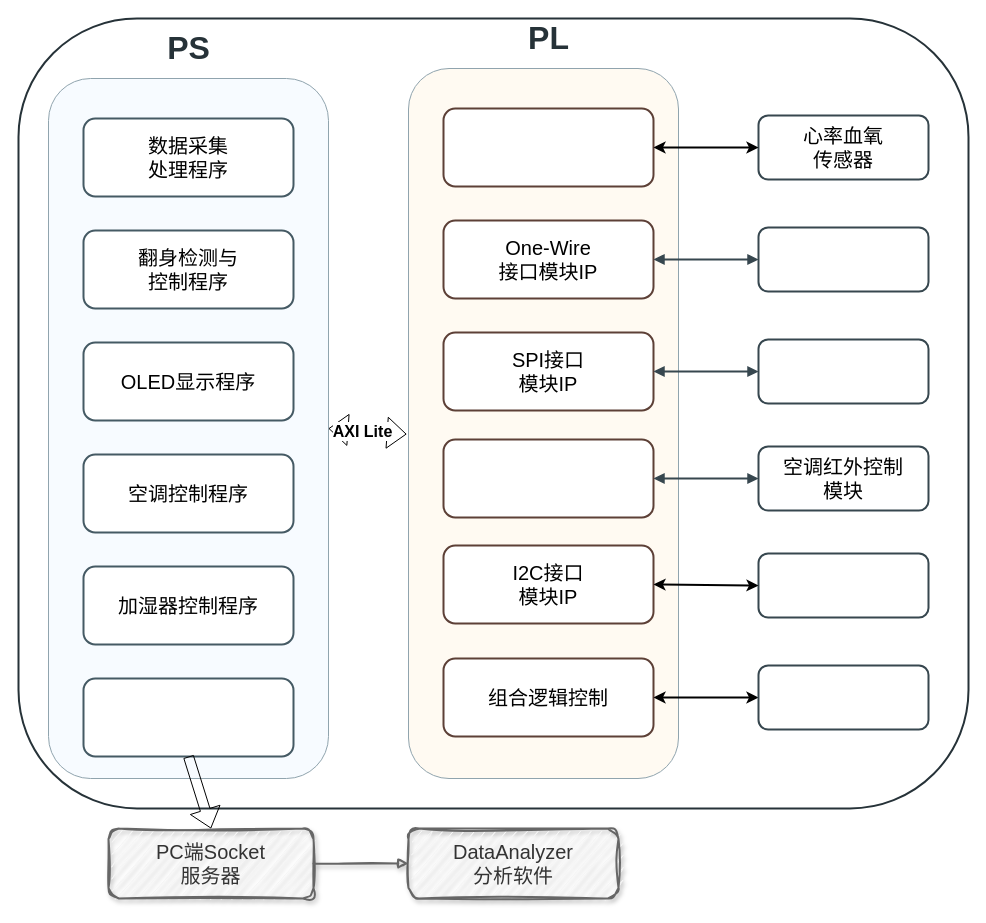
Some shapes in this 986 by 923 pixel diagram are drawn without their labels. The shapes that lost their labels are listed below. From the top down, each one's centre as x and y in pixels, then its label:
At (x=548, y=147): "UART接口 模块IP".
At (x=843, y=259): "DHT11温湿度 传感器".
At (x=843, y=371): "OLED屏幕 模块".
At (x=548, y=478): "IR_AC接口 模块IP".
At (x=843, y=585): "MPU9250 传感器".
At (x=188, y=717): "网络通信 客户端程序".
At (x=843, y=697): "加湿器 模块".
